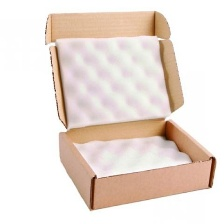foam_box: (53, 32, 176, 133), (69, 131, 198, 180)
